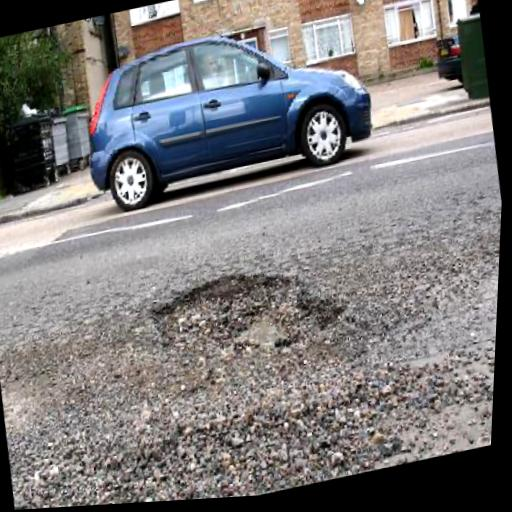pothole: (141, 245, 353, 379)
